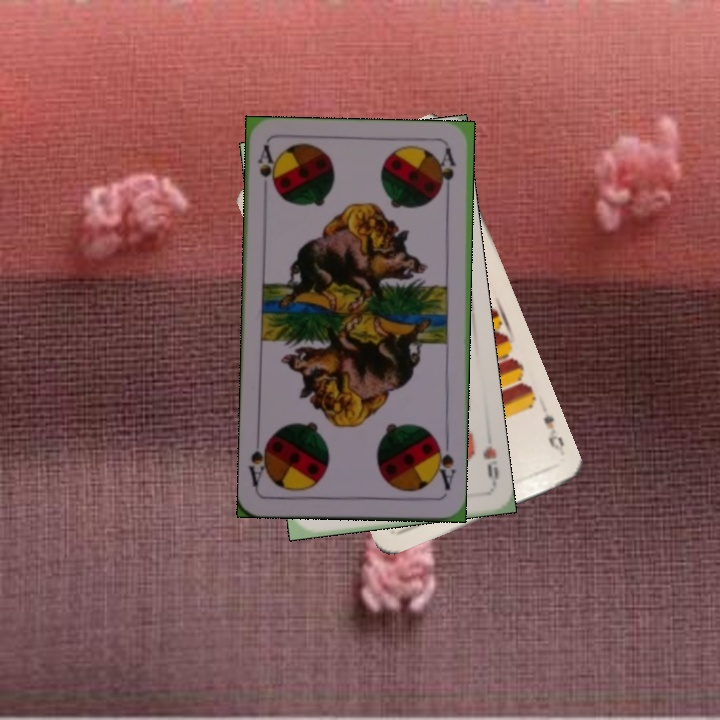E9: (539, 410, 568, 459)
H9: (478, 442, 502, 488)
SA: (431, 436, 458, 492), (253, 142, 279, 196)
